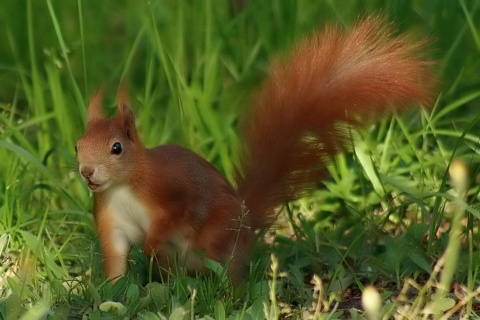Squirrel: (44, 10, 444, 292)
